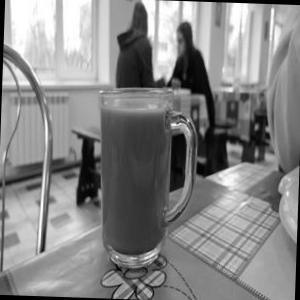coffee: (87, 73, 204, 279)
